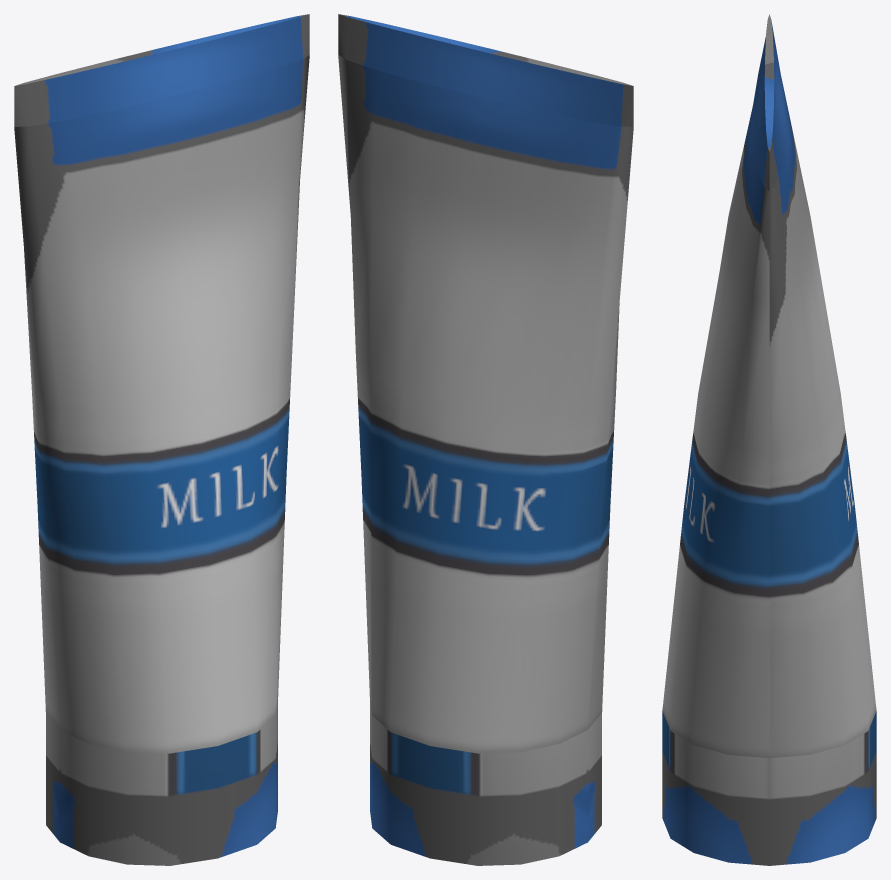
The model's file is milk-tube.fbx.
3 views of the same model, side by side, from view 1: azimuth 30°, elevation 25°; view 2: azimuth 150°, elevation 25°; view 3: azimuth 270°, elevation 25° (orthographic). The views are drawn at different scales.
Parts seen in each view (by area): view 1: Milk; view 2: Milk; view 3: Milk.
Part boxes in pixels (<box>): Milk: <box>14,14,309,865</box>; Milk: <box>338,14,633,865</box>; Milk: <box>662,14,876,865</box>.
Bounding box in the file's own units: 1.89 × 4.68 × 1.24.
